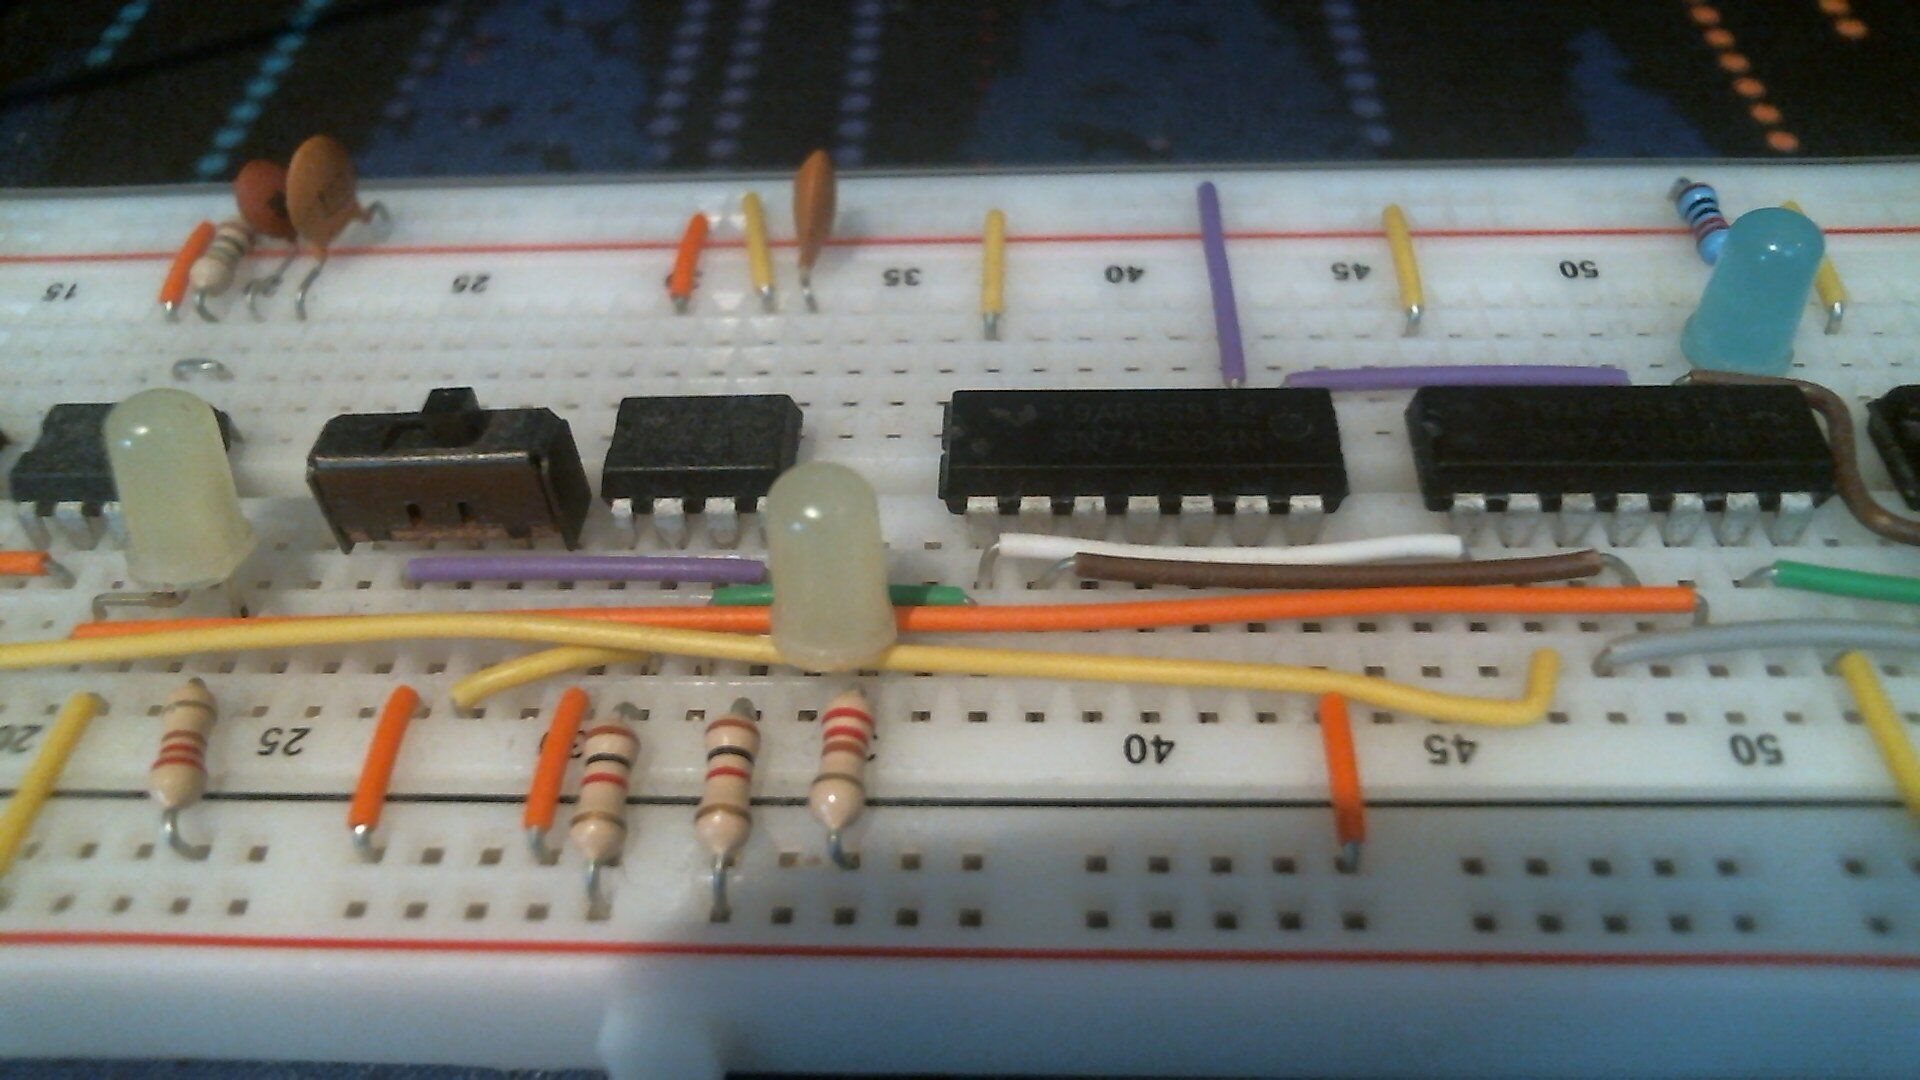IC: (1400, 382, 1845, 531), (934, 384, 1356, 531), (600, 390, 795, 512)
LED: (100, 385, 265, 596), (758, 459, 901, 674), (1676, 204, 1828, 378)
ceramic_capacitor: (282, 132, 382, 262), (790, 145, 840, 287)
resistor: (690, 698, 764, 869), (567, 708, 644, 872), (145, 676, 223, 822), (808, 686, 877, 847), (185, 218, 255, 297), (1671, 175, 1731, 266)
